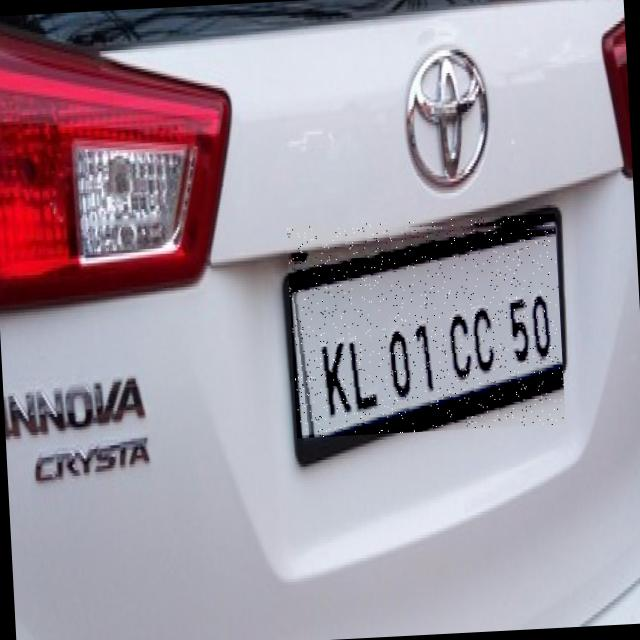Plate: (287, 215, 567, 440)
